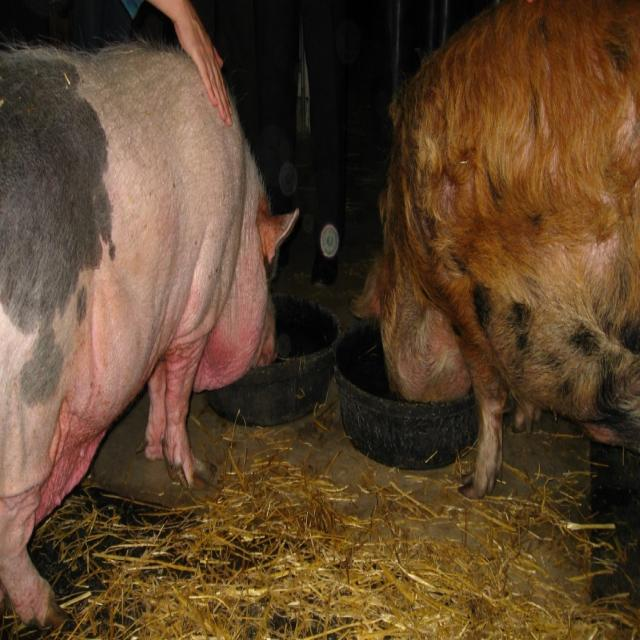pig: (0, 44, 298, 628), (359, 0, 640, 497)
